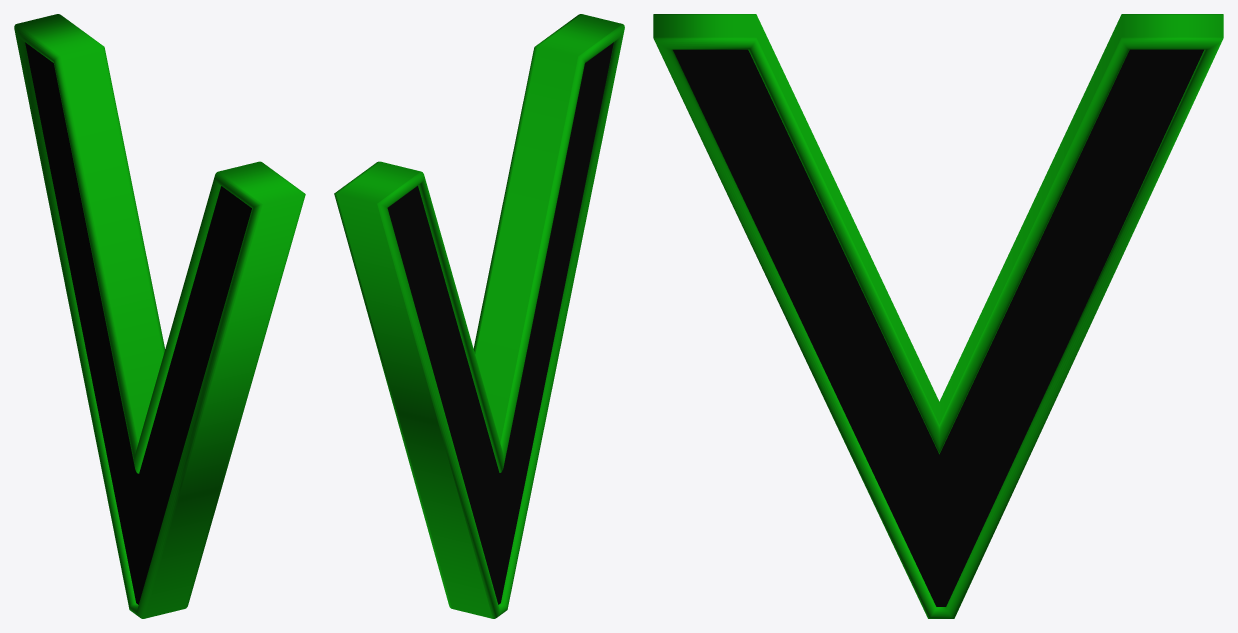
3 views of the same model, side by side, from view 1: azimuth 30°, elevation 25°; view 2: azimuth 150°, elevation 25°; view 3: azimuth 270°, elevation 25° (orthographic). The views are drawn at different scales.
Visible parts, largest first — view 1: V; view 2: V; view 3: V.
Boxes of the visible parts, <box> form: V: <box>14,14,305,618</box>; V: <box>334,14,624,618</box>; V: <box>653,14,1223,618</box>.
Size of the model in its own units: 7.4 by 70.2 by 62.52.
